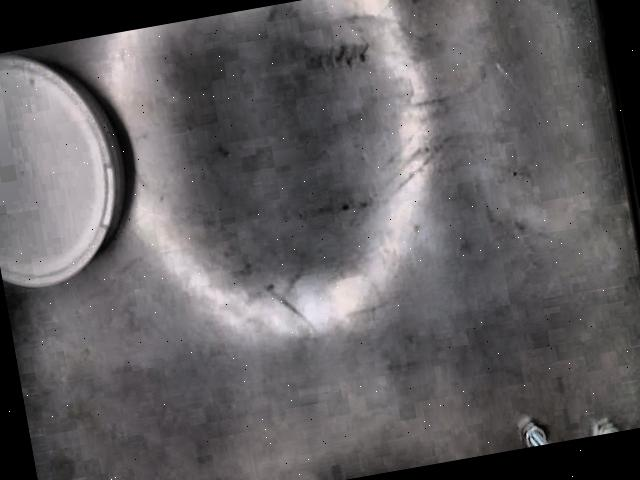Plastic: (0, 56, 126, 288)
